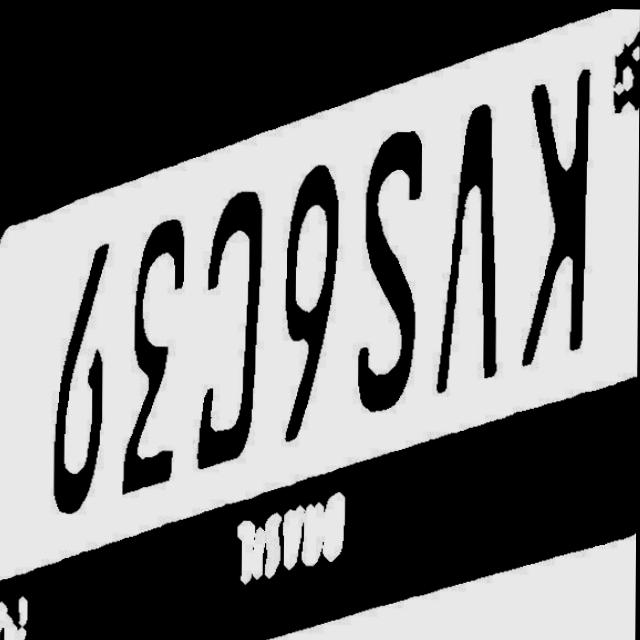3: (117, 219, 185, 522)
6: (276, 149, 341, 449)
9: (44, 241, 113, 541)
c: (190, 194, 258, 500)
k: (522, 59, 597, 387)
s: (354, 121, 436, 425)
v: (433, 98, 512, 410)
